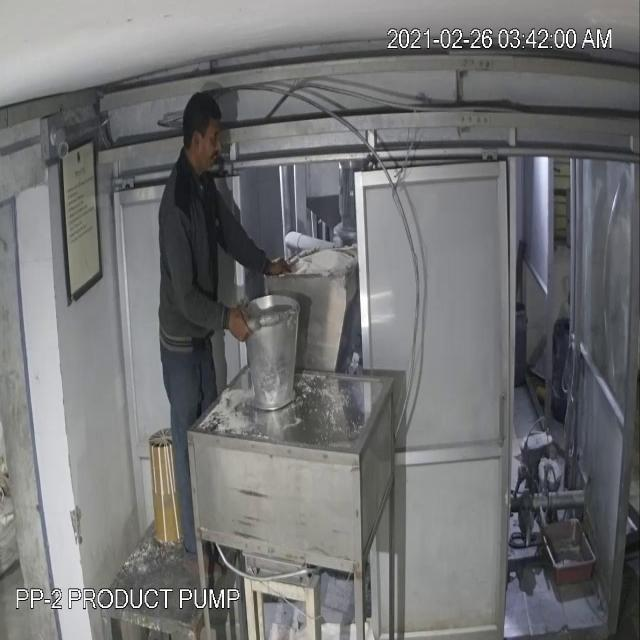no-helmet: (183, 84, 224, 182)
